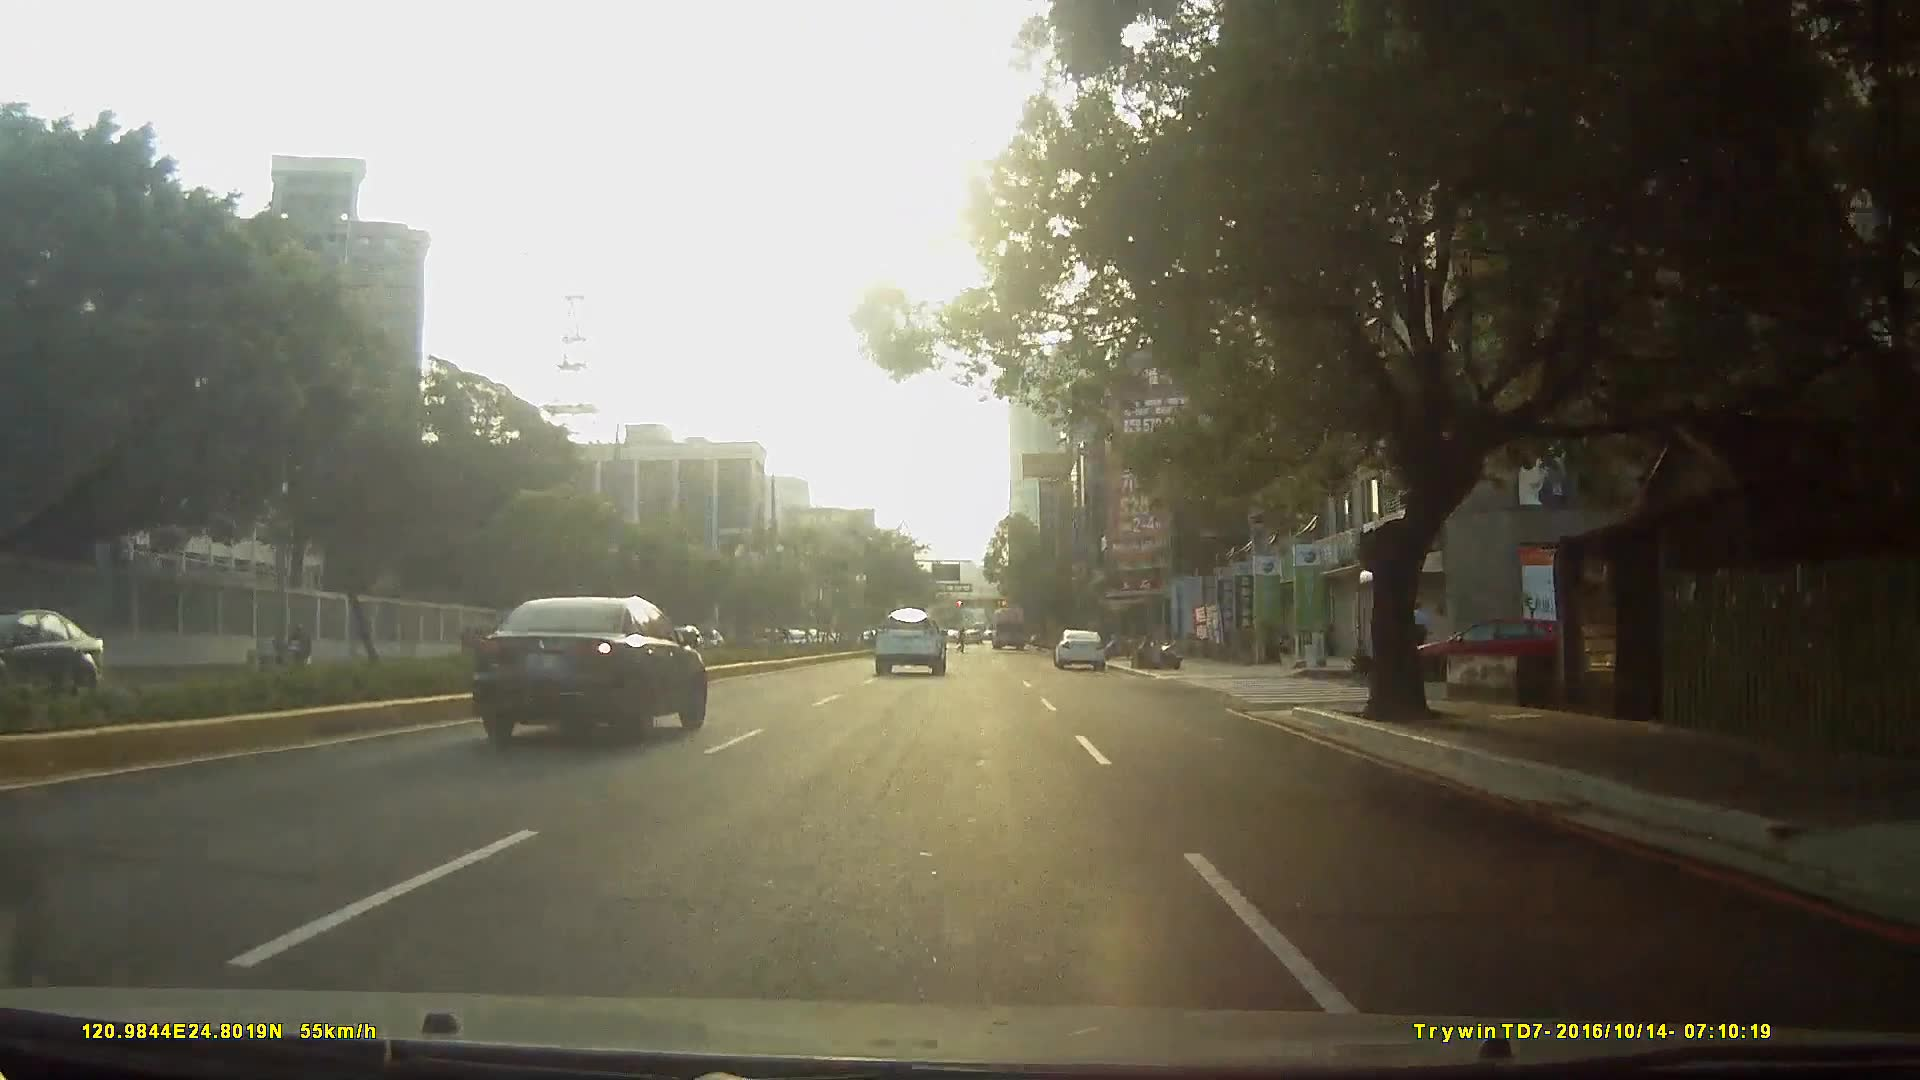pedestrian: (43, 609, 72, 669), (1410, 602, 1430, 663)
rider: (273, 624, 320, 677)
vehicle: (475, 591, 712, 743), (1399, 608, 1591, 684), (2, 600, 112, 711), (873, 604, 948, 673), (1053, 623, 1109, 665), (989, 601, 1031, 647)
